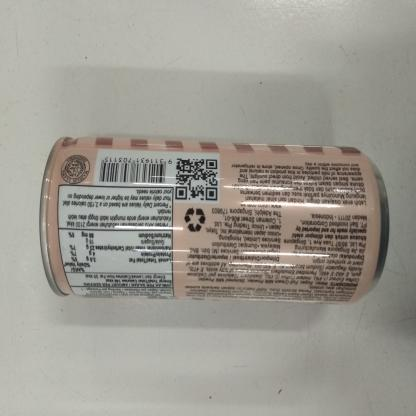can: (38, 127, 397, 312)
